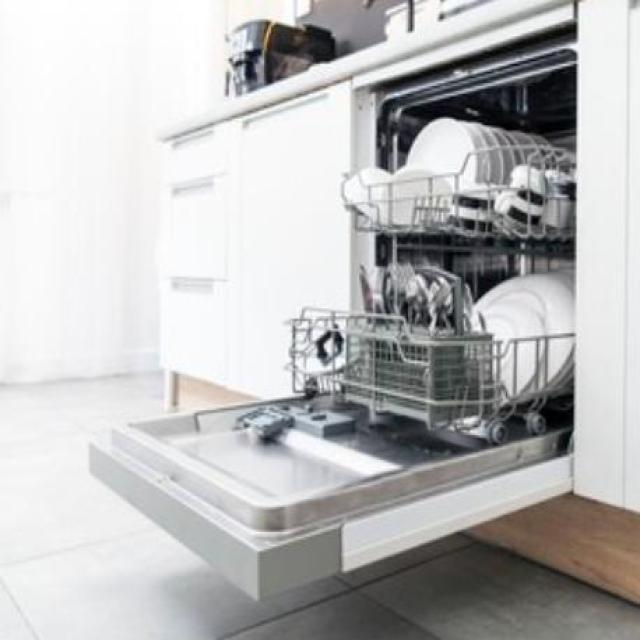dishwasher: (88, 22, 576, 601)
